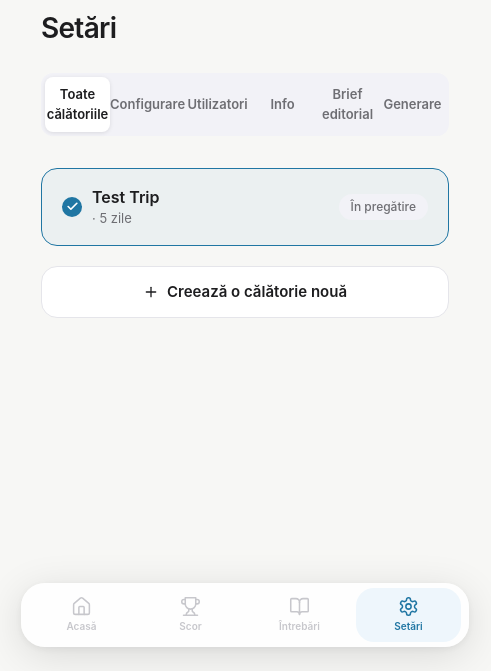
Test case: Trip editorial brief: read-only summary after publication › shows 'Preferințe nespecificate' for a published legacy trip with no brief, without inventing data
This screenshot has width=491, height=671.
Click the button "Brief editorial": {"x": 348, "y": 104} [315,77,380,132]
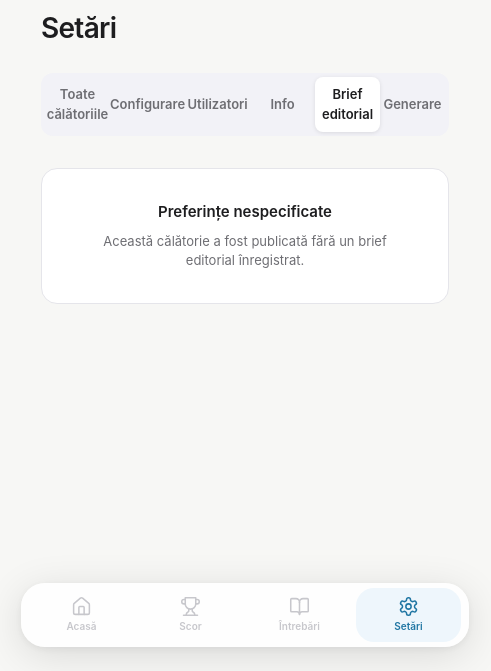
Expected: the text "Preferințe nespecificate" is shown, [158,202,332,221]
